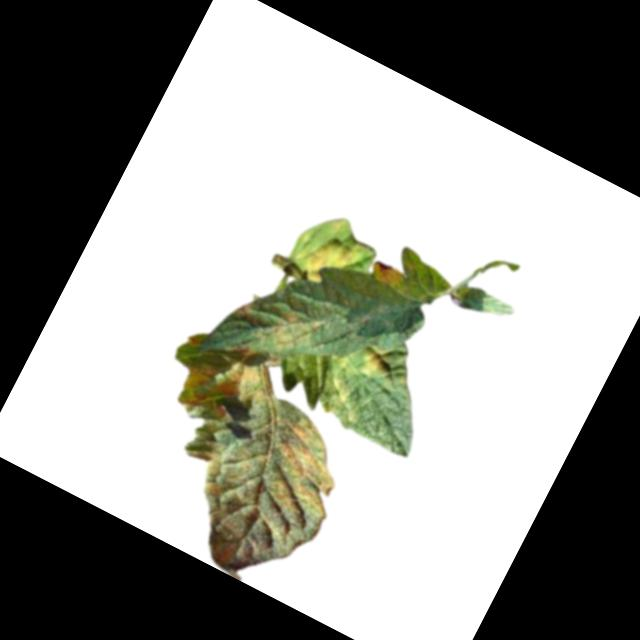Leaf_Mold: (111, 349, 368, 602), (259, 299, 321, 361), (296, 231, 357, 294), (314, 370, 360, 419), (354, 343, 394, 384), (366, 257, 404, 291), (229, 294, 261, 327)
